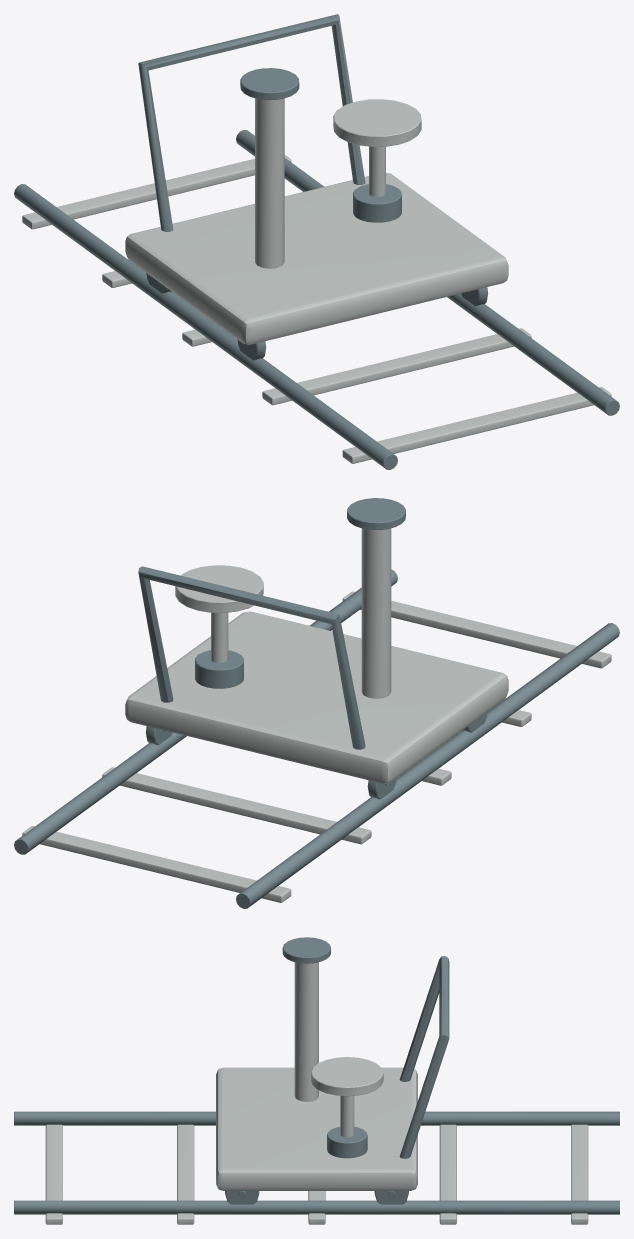
Rendered from camera-dolly.glb.
3 renders of one model, top to bottom at view 1: azimuth 30°, elevation 25°; view 2: azimuth 150°, elevation 25°; view 3: azimuth 270°, elevation 25°, orthographic. The views are drawn at different scales.
Parts seen in each view (by area): view 1: dolly_deck, dolly_track, push_handle, camera_pedestal, dolly_track.001, track_tie.004, track_tie.003, operator_seat, track_tie, camera_mount, seat_base, seat_post; view 2: dolly_deck, dolly_track, push_handle, camera_pedestal, dolly_track.001, track_tie, track_tie.001, track_tie.004, operator_seat, camera_mount, seat_base, seat_post; view 3: dolly_deck, dolly_track.001, dolly_track, push_handle, camera_pedestal, operator_seat, track_tie, track_tie.004, track_tie.001, track_tie.003, camera_mount, seat_base (+3 smaller).
Boxes of the visible parts, bbox=[...] form: dolly_deck: bbox=[125, 172, 508, 344]; dolly_track: bbox=[14, 184, 397, 469]; push_handle: bbox=[138, 14, 365, 231]; camera_pedestal: bbox=[255, 98, 284, 268]; dolly_track.001: bbox=[236, 130, 619, 415]; track_tie.004: bbox=[342, 387, 611, 463]; track_tie.003: bbox=[262, 328, 531, 405]; operator_seat: bbox=[333, 99, 421, 146]; track_tie: bbox=[22, 155, 291, 229]; camera_mount: bbox=[240, 68, 299, 99]; seat_base: bbox=[353, 184, 401, 222]; seat_post: bbox=[369, 146, 385, 196]; dolly_deck: bbox=[125, 611, 508, 783]; dolly_track: bbox=[236, 623, 619, 908]; push_handle: bbox=[138, 566, 365, 749]; camera_pedestal: bbox=[361, 528, 391, 698]; dolly_track.001: bbox=[14, 569, 397, 854]; track_tie: bbox=[22, 826, 291, 902]; track_tie.001: bbox=[102, 767, 371, 844]; track_tie.004: bbox=[342, 591, 611, 668]; operator_seat: bbox=[175, 565, 263, 612]; camera_mount: bbox=[347, 498, 405, 529]; seat_base: bbox=[195, 650, 243, 688]; seat_post: bbox=[211, 612, 228, 662]; dolly_deck: bbox=[216, 1067, 417, 1190]; dolly_track.001: bbox=[14, 1200, 619, 1214]; dolly_track: bbox=[14, 1111, 619, 1125]; push_handle: bbox=[399, 956, 449, 1158]; camera_pedestal: bbox=[294, 962, 318, 1101]; operator_seat: bbox=[311, 1057, 383, 1096]; track_tie: bbox=[571, 1124, 588, 1224]; track_tie.004: bbox=[45, 1124, 62, 1224]; track_tie.001: bbox=[439, 1124, 456, 1224]; track_tie.003: bbox=[177, 1124, 194, 1224]; camera_mount: bbox=[282, 937, 330, 963]; seat_base: bbox=[327, 1126, 367, 1158].
Size of the model in its own units: 1.25 by 1.12 by 3.
